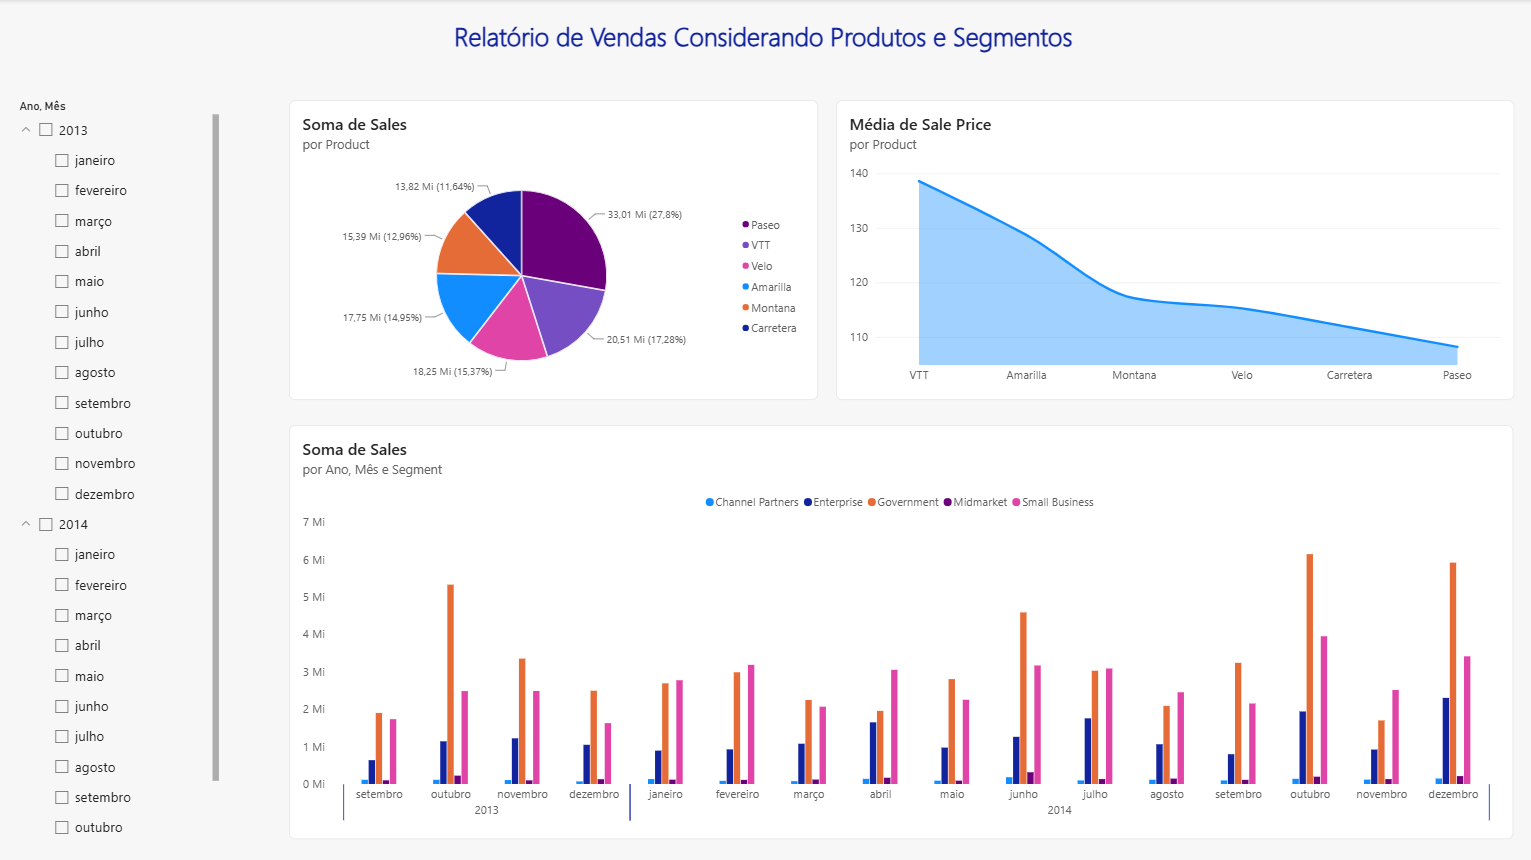

This screenshot's page, from the dashboard's own definition file:
{"tool":"powerbi","page":{"name":"Página 1","canvas":[1920,1080],"ordinal":0},"visuals":[{"type":"pieChart","fields":{"Category":["financials.Product"],"Y":["Sum(financials.Sales)"]},"box":[363.7,126.3,662.9,376],"z":0},{"type":"areaChart","fields":{"Category":["financials.Product"],"Y":["Avg(financials.Sale Price)"]},"box":[1048.5,126.3,849.5,376],"z":1000},{"type":"clusteredColumnChart","fields":{"Category":["financials.Date.Variation.Hierarquia de datas.Ano","financials.Date.Variation.Hierarquia de datas.Mês"],"Series":["financials.Segment"],"Y":["Sum(financials.Sales)"]},"box":[363.7,533.9,1534.4,518.8],"z":2000},{"type":"slicer","fields":{"Values":["financials.Date.Variation.Hierarquia de datas.Ano","financials.Date.Variation.Hierarquia de datas.Mês"]},"box":[17.8,126.3,258,926.4],"z":3000},{"type":"textbox","box":[17.8,23.3,1880.2,50.8],"z":4000}]}

Visuals, with their boxes on the page's 1920x1080 design canvas (x1, y1, x2, y2). These are canvas units, not pixel positions in the 1531x860 screenshot, which may show the page scaled, cropped or inside an application window:
pieChart - financials.Product x Sum(financials.Sales): {"x1": 364, "y1": 126, "x2": 1027, "y2": 502}
areaChart - financials.Product x Avg(financials.Sale Price): {"x1": 1048, "y1": 126, "x2": 1898, "y2": 502}
clusteredColumnChart - financials.Date.Variation.Hierarquia de datas.Ano x financials.Date.Variation.Hierarquia de datas.Mês: {"x1": 364, "y1": 534, "x2": 1898, "y2": 1053}
slicer - financials.Date.Variation.Hierarquia de datas.Ano x financials.Date.Variation.Hierarquia de datas.Mês: {"x1": 18, "y1": 126, "x2": 276, "y2": 1053}
textbox: {"x1": 18, "y1": 23, "x2": 1898, "y2": 74}
